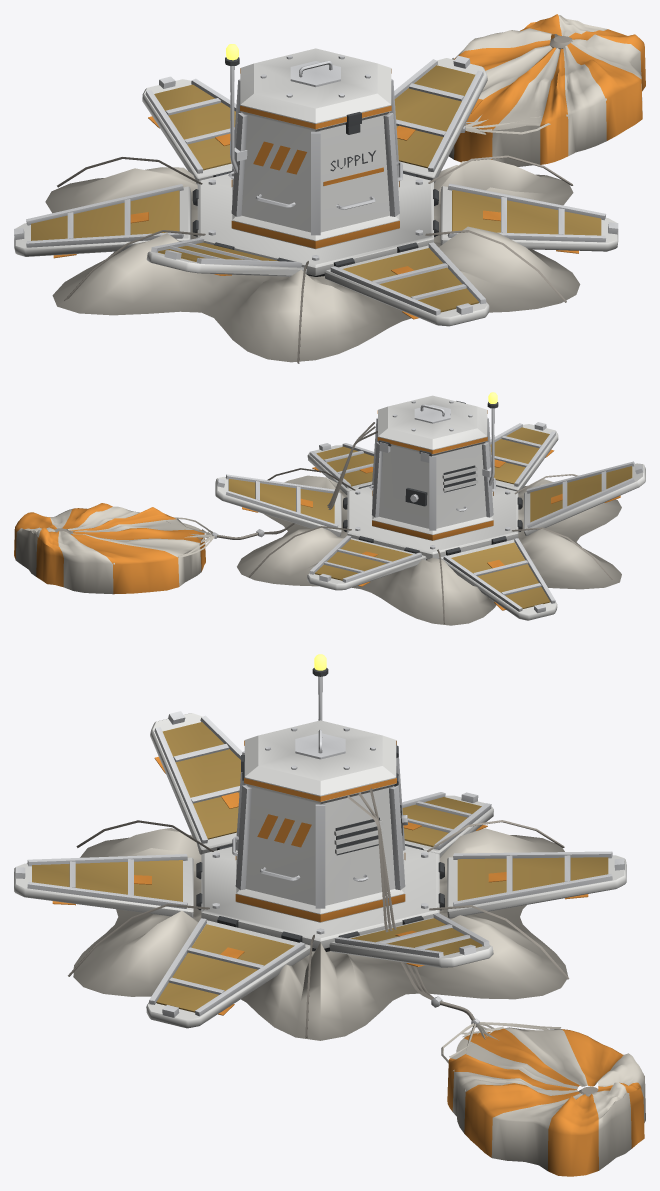
The model's file is supply_pod.glb.
3 views of the same model, one above another, from view 1: azimuth 30°, elevation 25°; view 2: azimuth 150°, elevation 25°; view 3: azimuth 270°, elevation 25° (orthographic). The views are drawn at different scales.
Visible parts, largest first — view 1: supply_pod_mesh, lid_mesh; view 2: supply_pod_mesh, lid_mesh; view 3: supply_pod_mesh, lid_mesh.
Boxes of the visible parts, left/top/right/bottom form: supply_pod_mesh: left=14, top=14, right=645, bottom=363; lid_mesh: left=240, top=48, right=391, bottom=129; supply_pod_mesh: left=14, top=392, right=645, bottom=625; lid_mesh: left=377, top=395, right=487, bottom=456; supply_pod_mesh: left=14, top=654, right=645, bottom=1176; lid_mesh: left=241, top=720, right=398, bottom=802.
Size of the model in its own units: 4.25 by 1.47 by 3.26.
